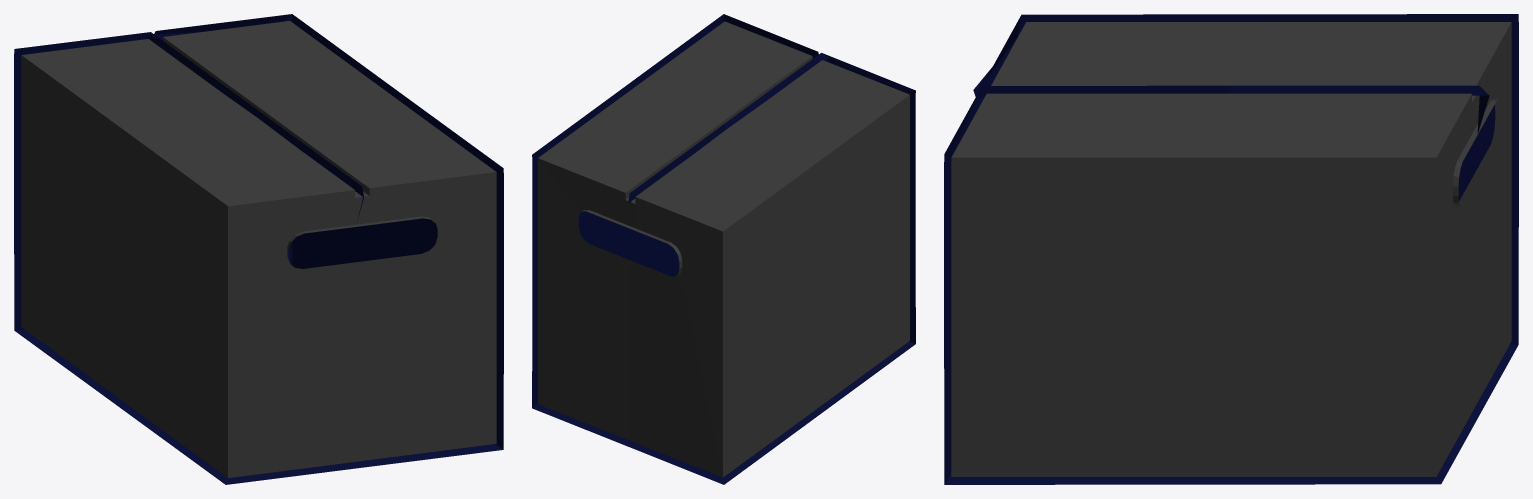
3 views of the same model, side by side, from view 1: azimuth 30°, elevation 25°; view 2: azimuth 150°, elevation 25°; view 3: azimuth 270°, elevation 25° (orthographic). The views are drawn at different scales.
Visible parts, largest first — view 1: Box; view 2: Box; view 3: Box.
Part boxes in pixels (x1,y1,x2,y2): Box: (14,14,503,484); Box: (532,14,915,484); Box: (944,14,1518,484).
Bounding box in the file's own units: 0.342 × 0.3752 × 0.5912.
